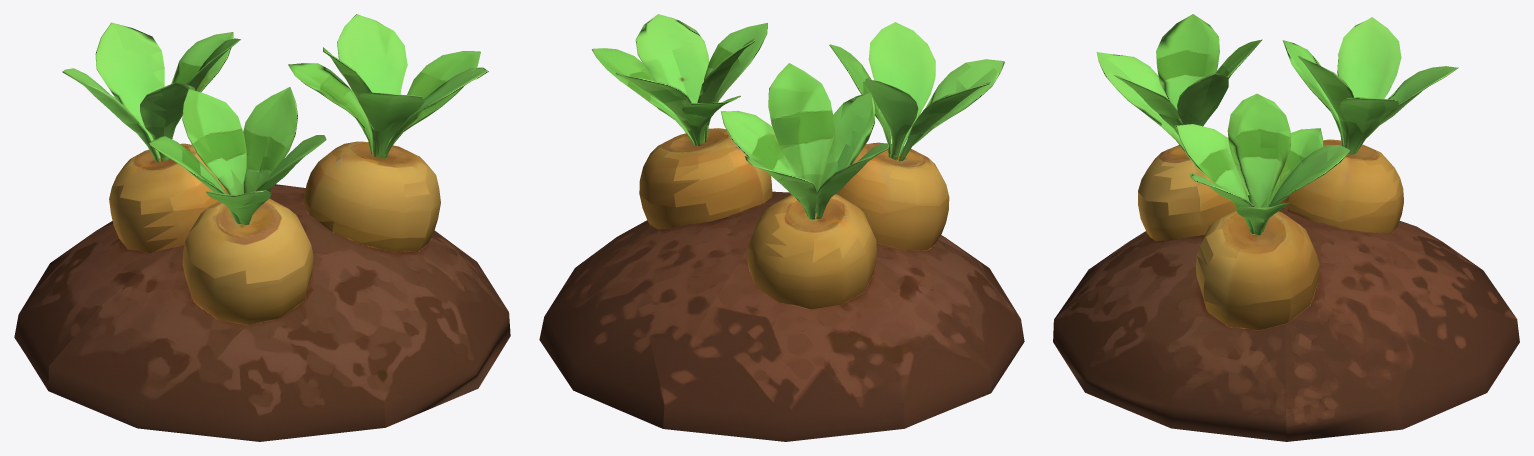
File: earth_apple.glb
3 views of the same model, side by side, from view 1: azimuth 30°, elevation 25°; view 2: azimuth 150°, elevation 25°; view 3: azimuth 270°, elevation 25° (orthographic). The views are drawn at different scales.
Parts seen in each view (by area): view 1: mesh_node; view 2: mesh_node; view 3: mesh_node.
Boxes of the visible parts, bbox=[...] form: mesh_node: bbox=[14, 14, 510, 441]; mesh_node: bbox=[539, 14, 1024, 441]; mesh_node: bbox=[1053, 14, 1519, 441].
Size of the model in its own units: 1 by 0.6621 by 1.
Materials: 1 (1 with a texture image).
